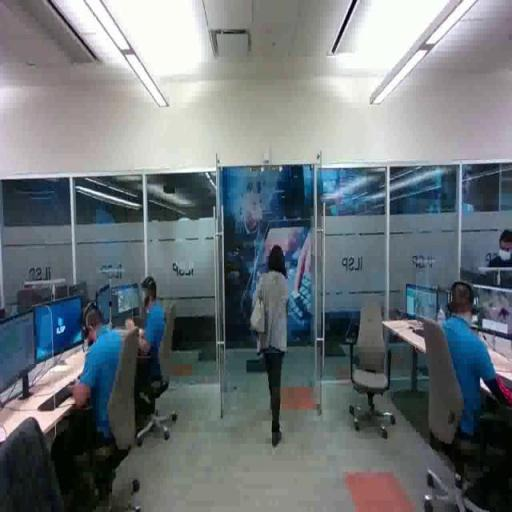person: (57, 297, 145, 498), (424, 278, 512, 475), (252, 240, 297, 456), (116, 274, 179, 421), (474, 223, 512, 309)
